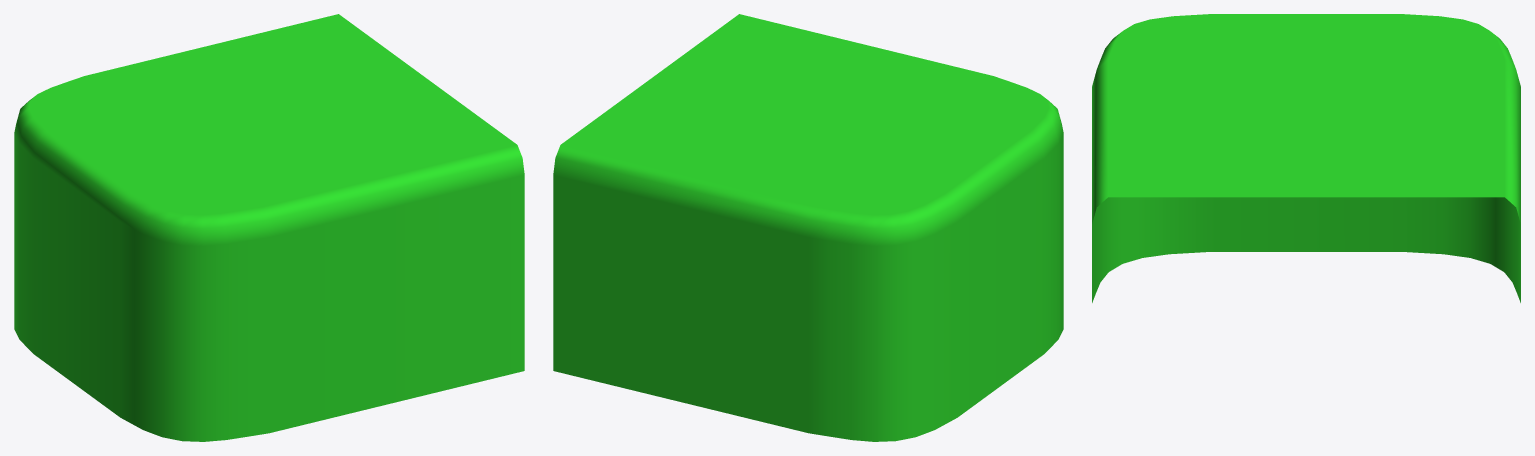
The model's file is ContainerLockedU.fbx.
3 renders of one model, left to right at view 1: azimuth 30°, elevation 25°; view 2: azimuth 150°, elevation 25°; view 3: azimuth 270°, elevation 25°, orthographic. The views are drawn at different scales.
Visible parts, largest first — view 1: ContainerLockedU; view 2: ContainerLockedU; view 3: ContainerLockedU.
Part boxes in pixels (box(x1,y1,x2,y2)): ContainerLockedU: box(14, 14, 524, 441); ContainerLockedU: box(553, 14, 1063, 441); ContainerLockedU: box(1092, 14, 1520, 302).
Bounding box in the file's own units: 46.99 × 28.23 × 44.83.
